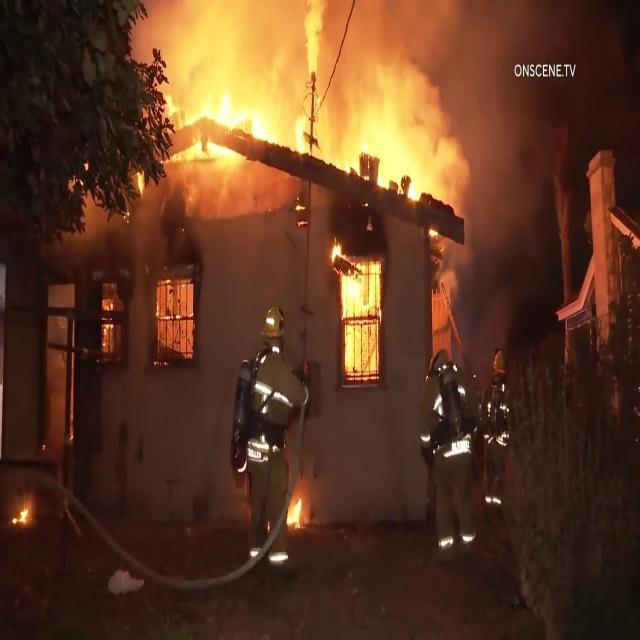Smoke: (460, 0, 640, 264), (175, 13, 468, 67)
